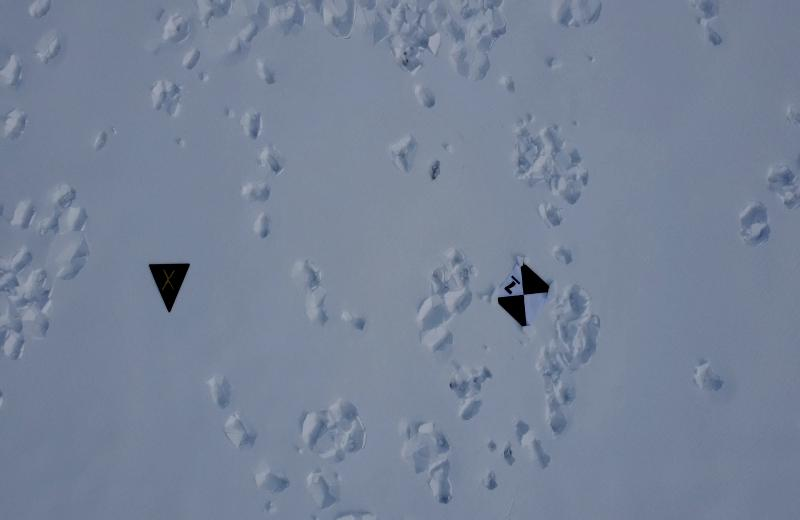Triangle: (149, 260, 190, 314)
